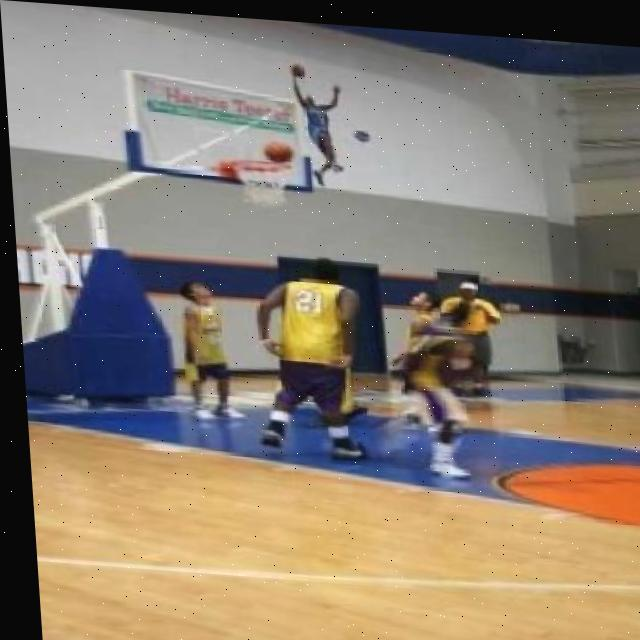basketball: (264, 139, 296, 166)
hoop: (231, 154, 296, 212)
